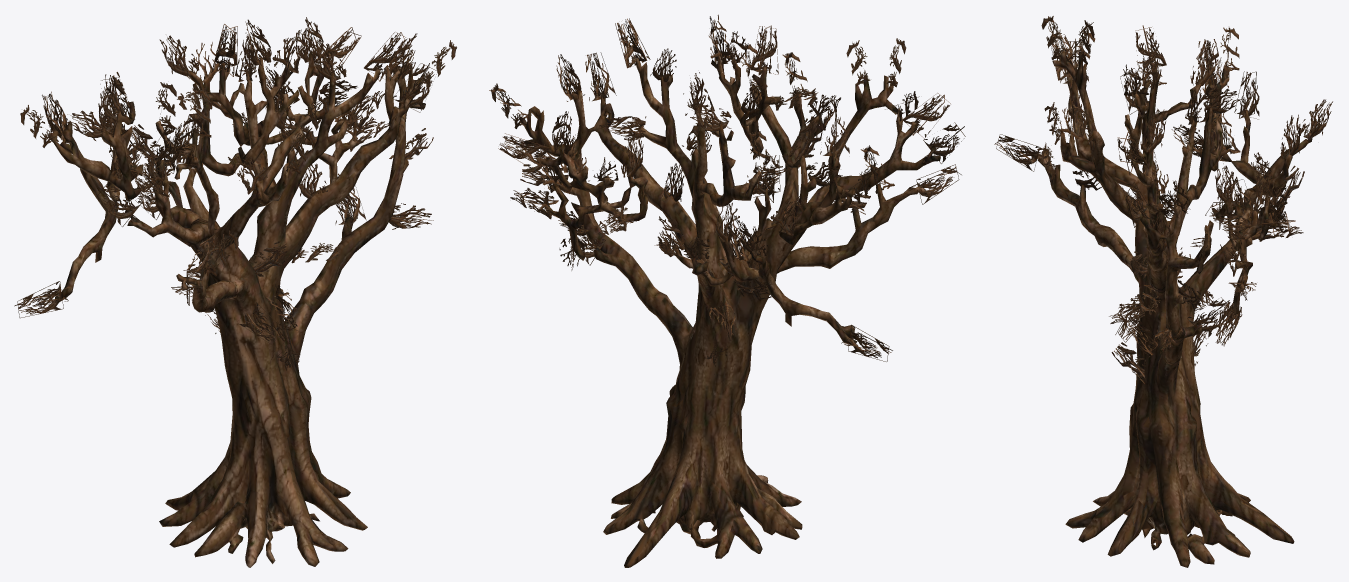
File: toad-prop3d-great-tree.glb
3 views of the same model, side by side, from view 1: azimuth 30°, elevation 25°; view 2: azimuth 150°, elevation 25°; view 3: azimuth 270°, elevation 25° (orthographic). The views are drawn at different scales.
Visible parts, largest first — view 1: world; view 2: world; view 3: world.
Part boxes in pixels (x1,y1,x2,y2): world: (14, 17, 456, 567); world: (489, 14, 965, 567); world: (994, 16, 1332, 567).
Bounding box in the file's own units: 0.5321 × 0.6201 × 0.3945.
Materials: 1 (1 with a texture image).
